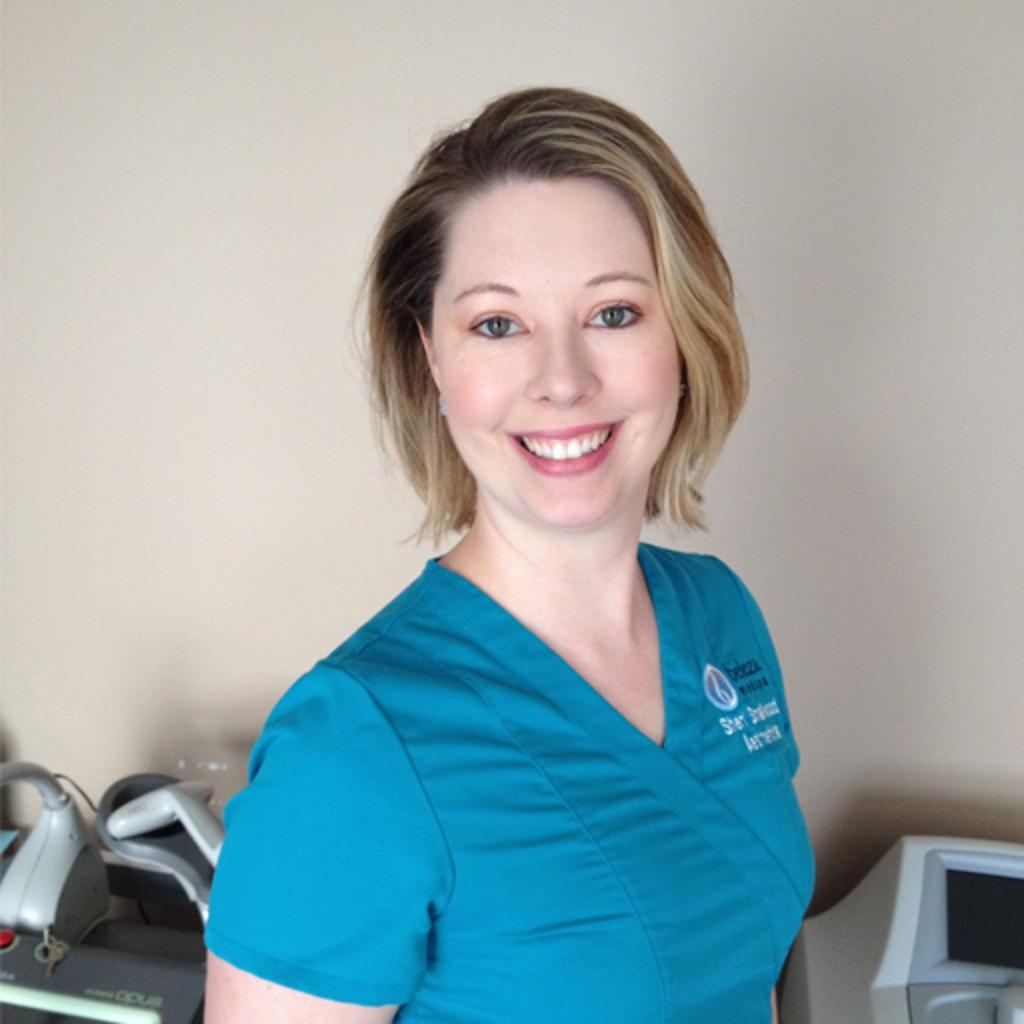face: (436, 216, 684, 528)
